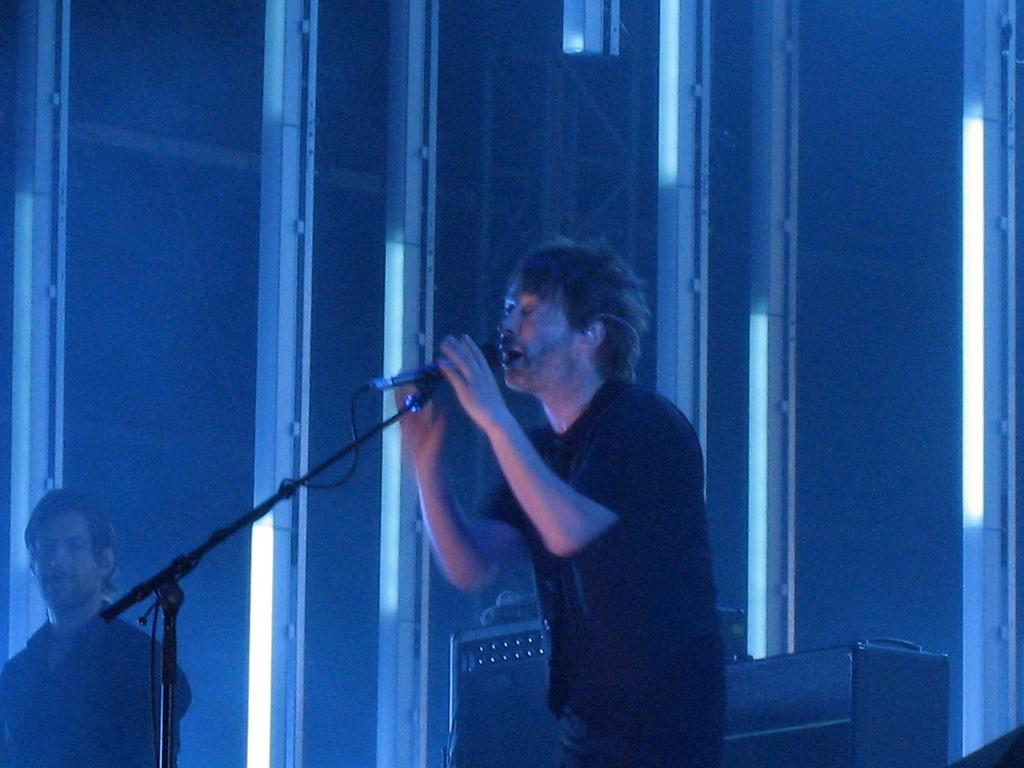Sem Máscara: (498, 279, 571, 387), (32, 513, 95, 603)
